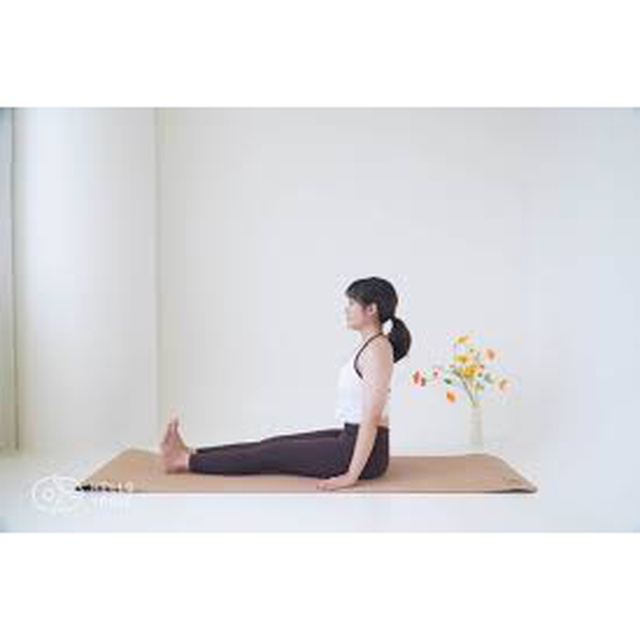Staff_Pose: (159, 277, 413, 488)
